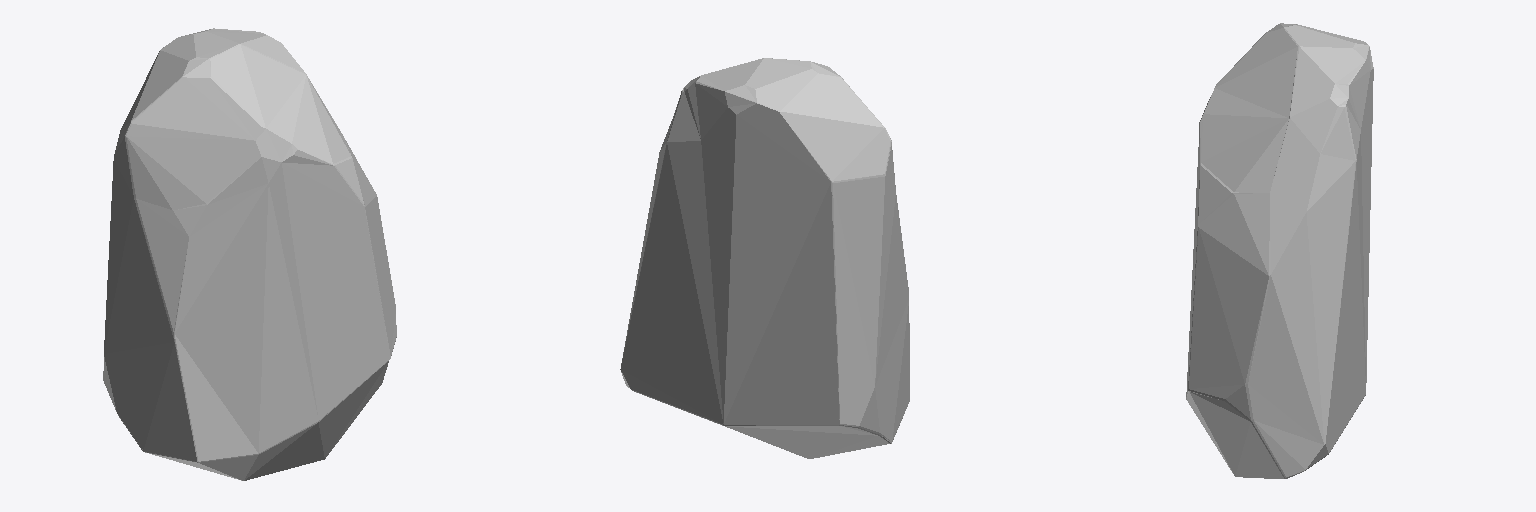
File: rock_2_001.obj
3 renders of one model, left to right at view 1: azimuth 30°, elevation 25°; view 2: azimuth 150°, elevation 25°; view 3: azimuth 270°, elevation 25°, orthographic.
Visible parts, largest first — view 1: rock_2_Cube.014; view 2: rock_2_Cube.014; view 3: rock_2_Cube.014.
Part boxes in pixels (bbox=[...]): rock_2_Cube.014: bbox=[103, 28, 396, 480]; rock_2_Cube.014: bbox=[620, 58, 909, 458]; rock_2_Cube.014: bbox=[1186, 23, 1373, 478].
Bounding box in the file's own units: 1.3 × 1.97 × 0.8104.